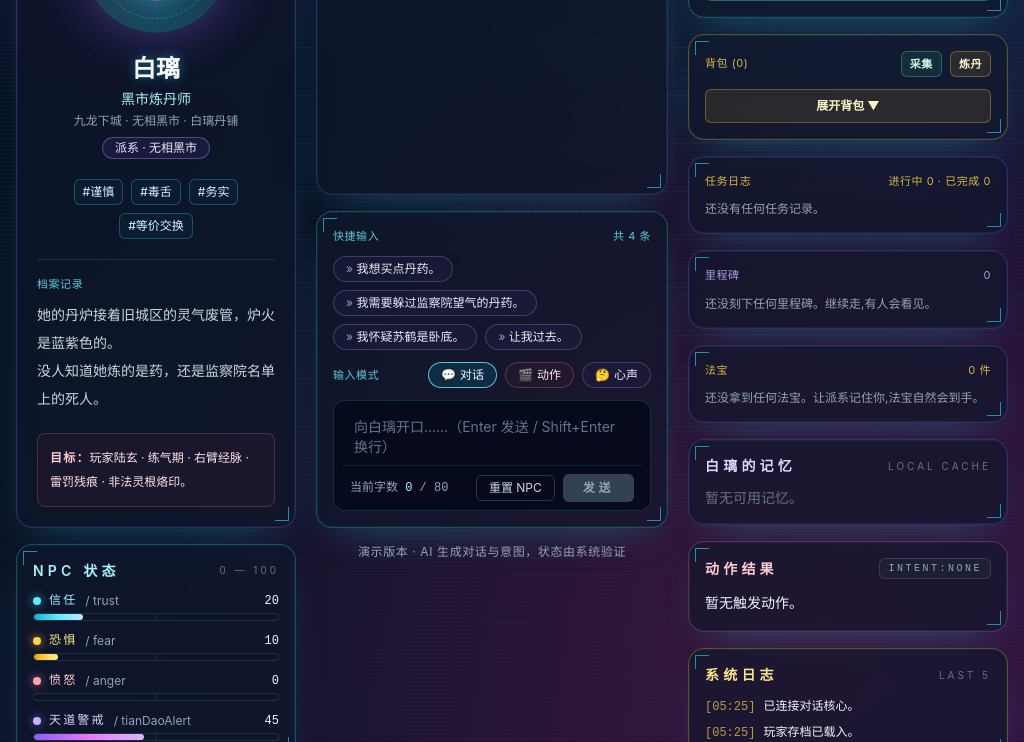
Test: PlayPage scene + NPC navigation › sends inputMode=action and renders a narrator bubble for action mode
(page scrolled)
Click the radio button with aria-label "动作模式" at (540,375), box x1=505 y1=362 x2=574 y2=388
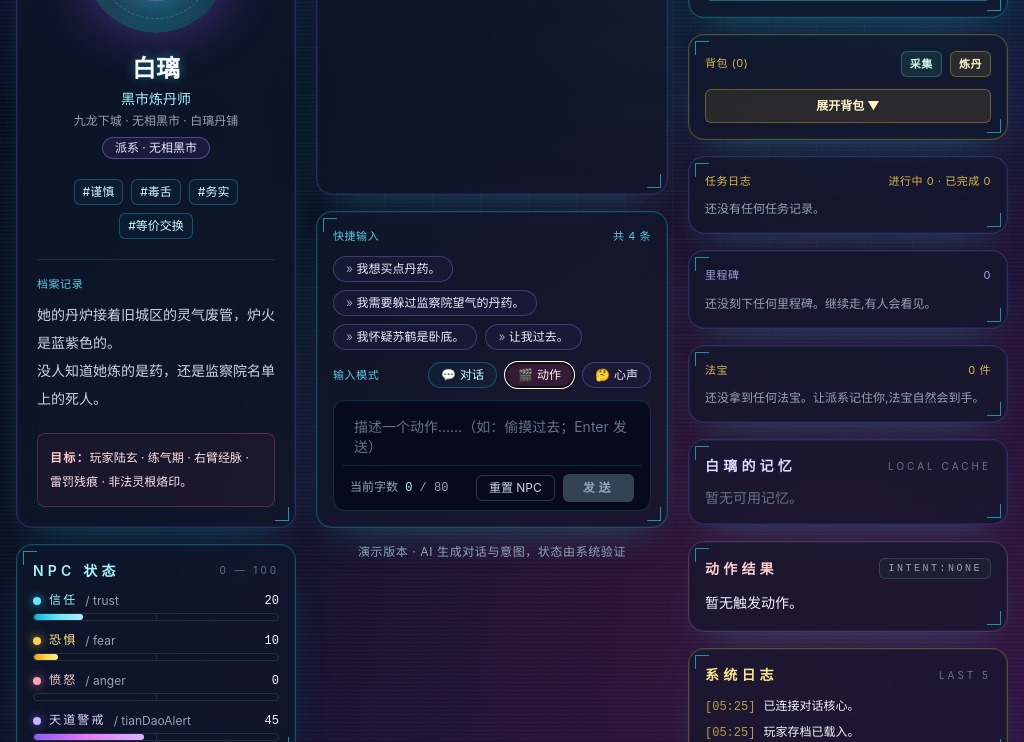
Type "偷摸过去" into the text box with placeholder "描述一个动作……（如：偷摸过去；Enter 发送）" at (492,437), box x1=342 y1=409 x2=642 y2=465
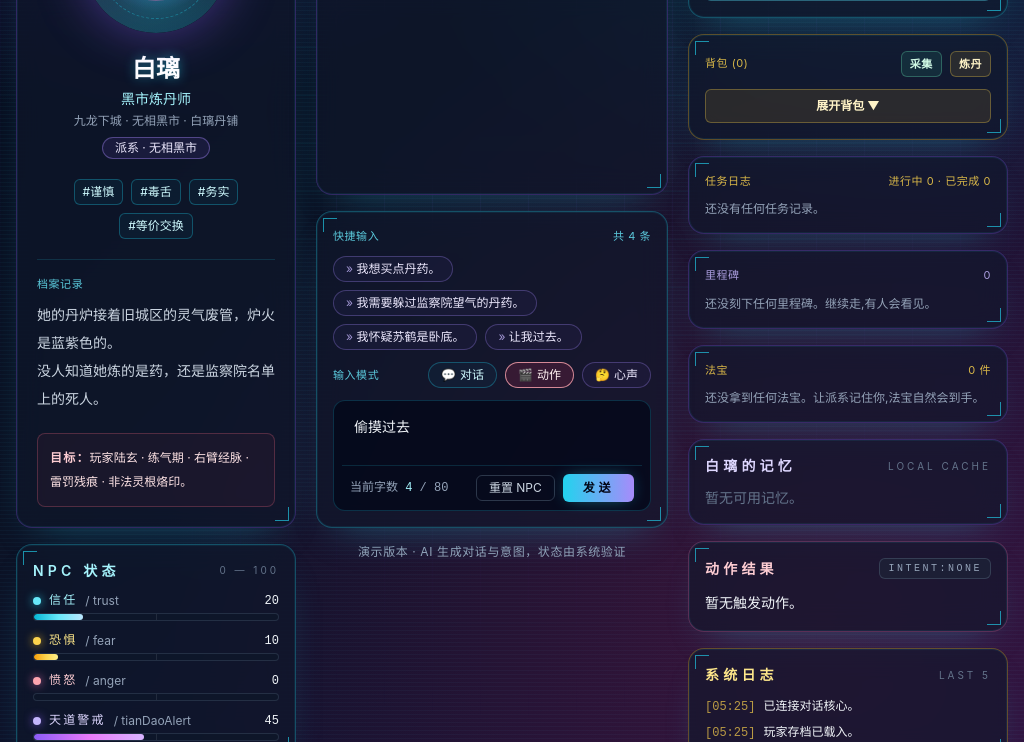
Click the button "发送" at (598,488), box x1=563 y1=474 x2=634 y2=502
(page scrolled)
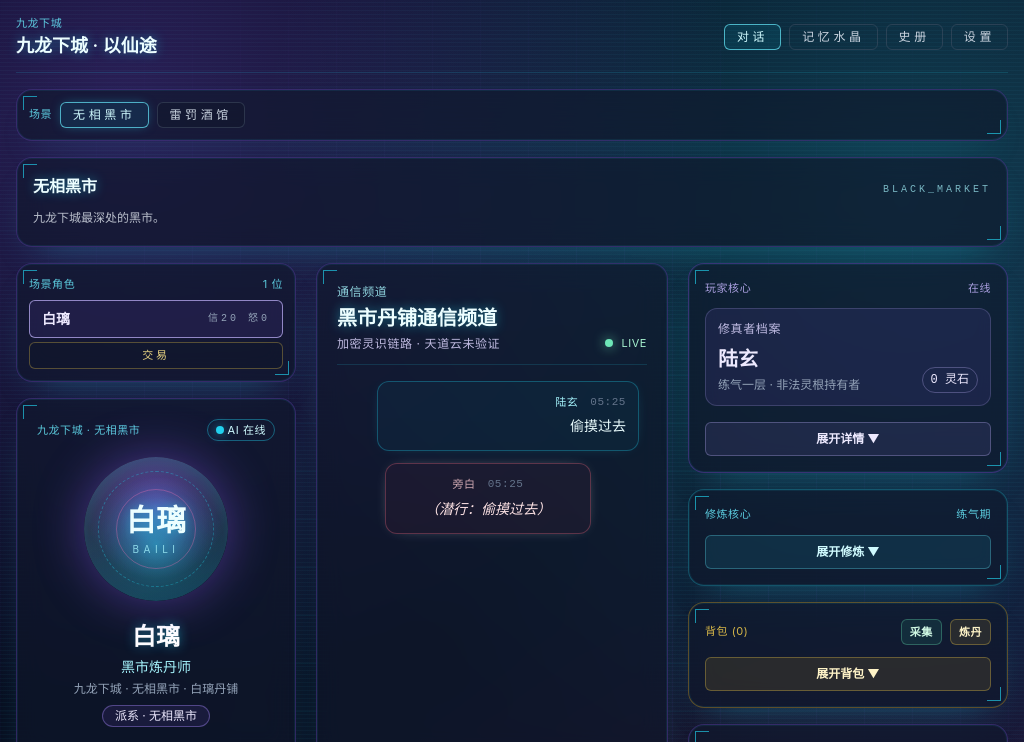
Now the element with test id "narrator-bubble" is shown, box x1=385 y1=463 x2=591 y2=534
Now the element with test id "narrator-bubble" shows "旁白", box x1=453 y1=477 x2=476 y2=491
Now the element with test id "narrator-bubble" shows "（潜行：偷摸过去）", box x1=425 y1=500 x2=551 y2=516
